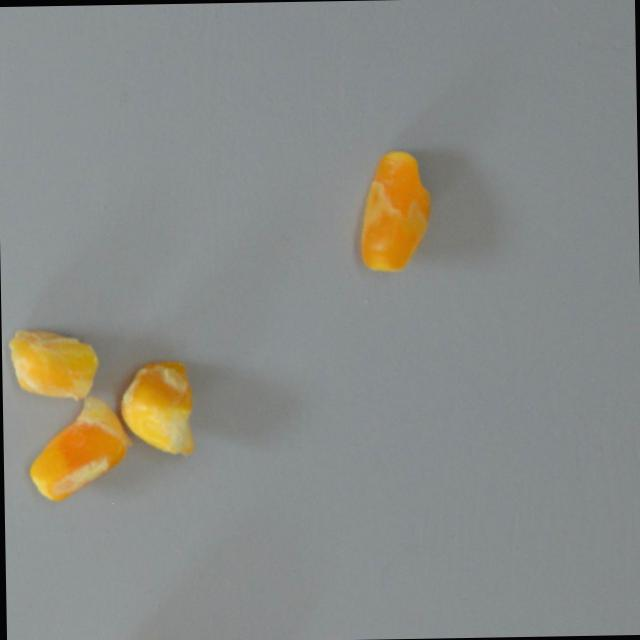dañado: (22, 394, 132, 506)
pelicula: (349, 144, 437, 277), (118, 355, 196, 462), (2, 323, 101, 406)
